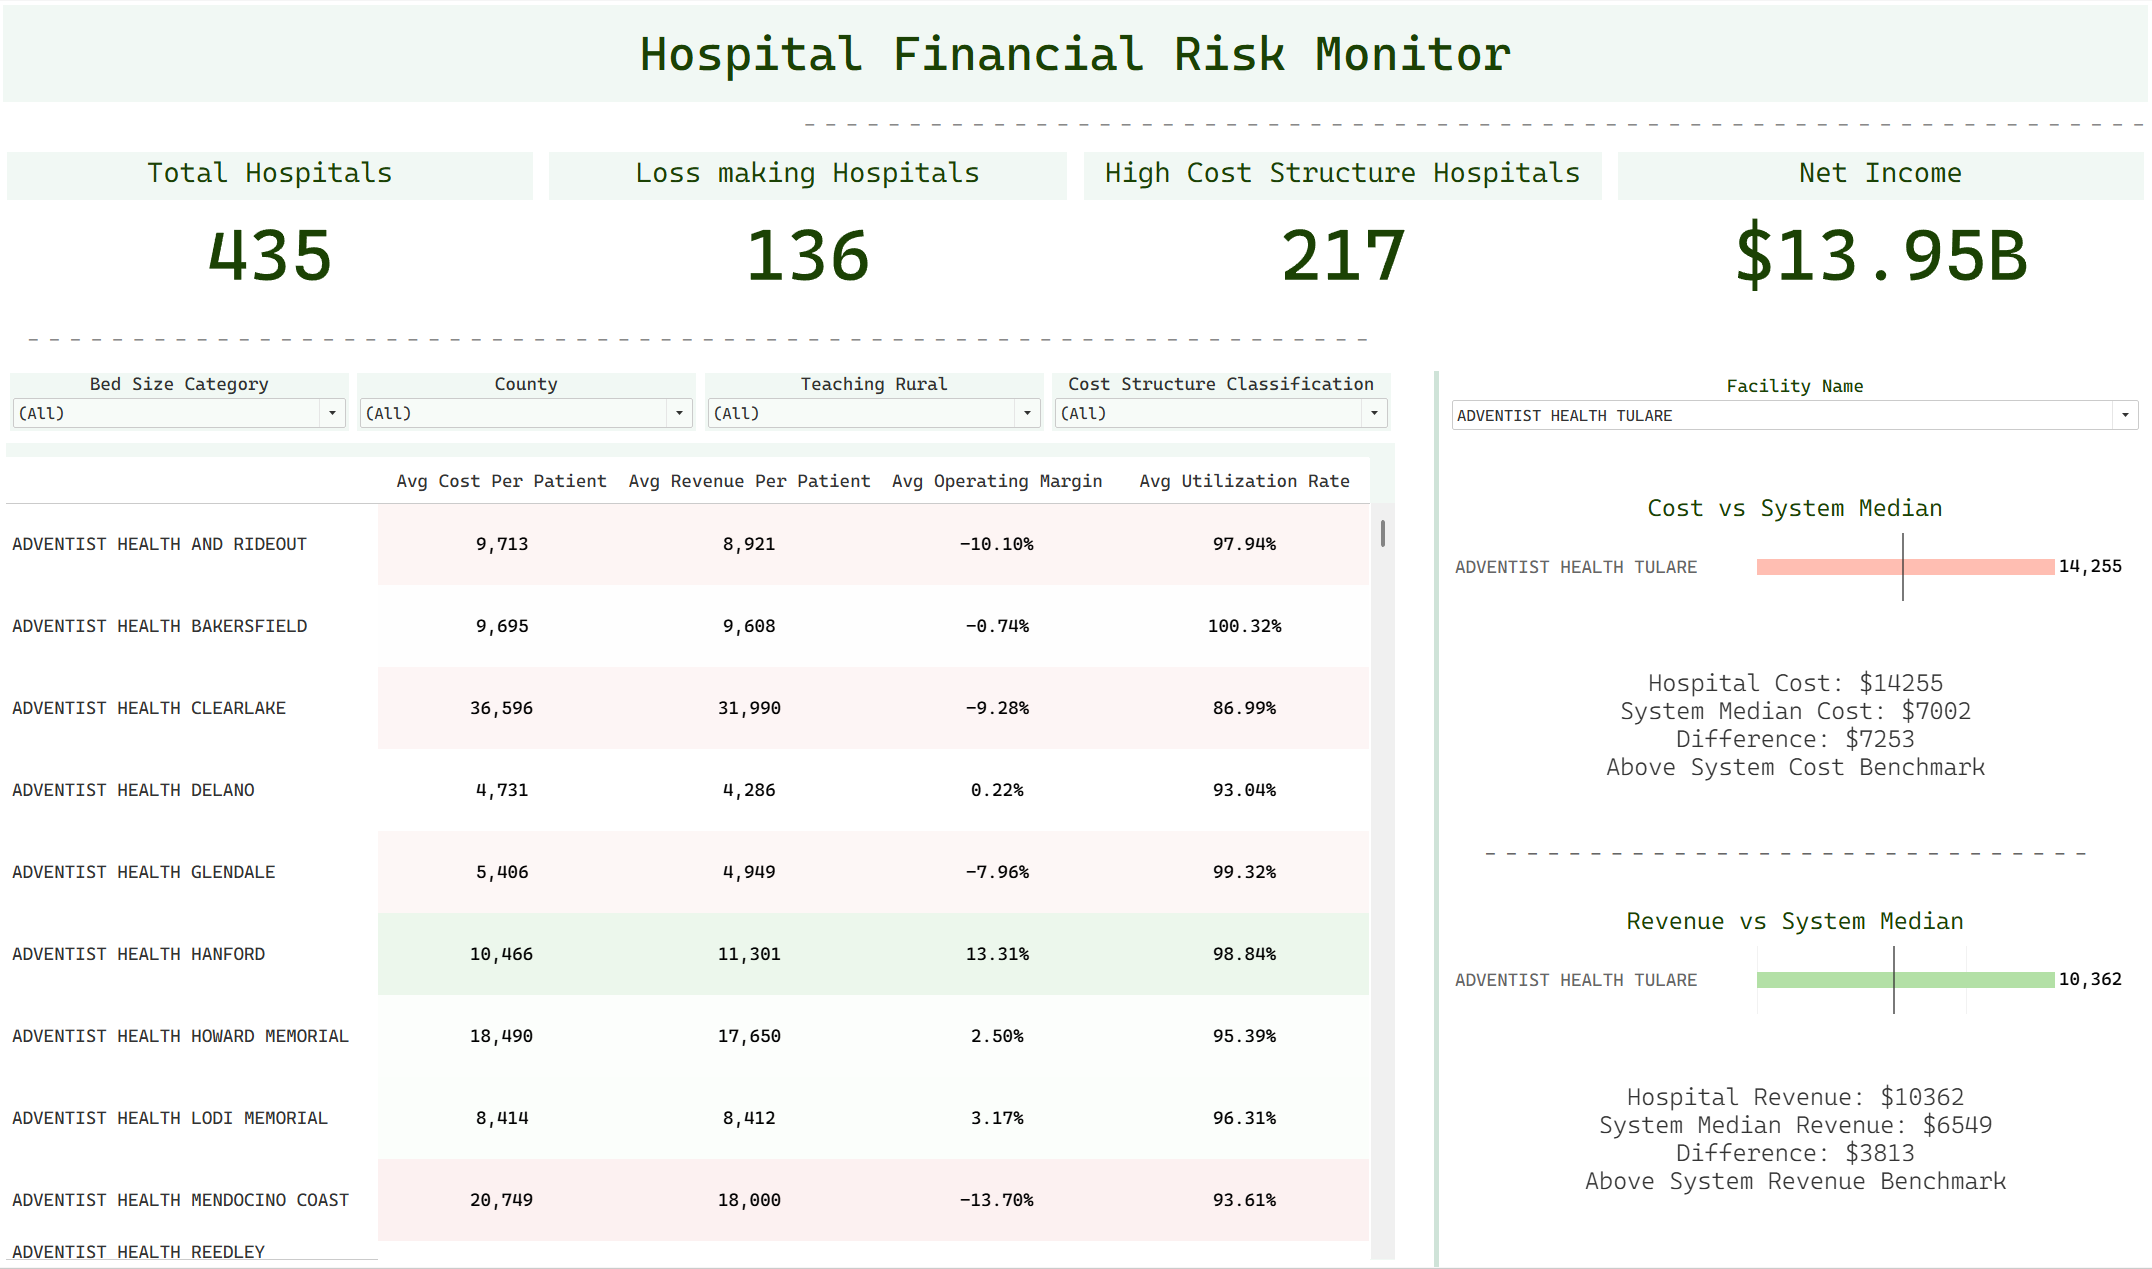

What the dashboard file says about the page in this screenshot:
{"tool":"tableau","page":{"name":"Dashboard 1","canvas":[2153,1266],"ordinal":0},"visuals":[{"type":"text","box":[0,0,2153,105]},{"type":"text","box":[0,105,2153,38]},{"type":"worksheet","title":"KPI Total Hospitals","mark":"Automatic","box":[4,147,534.3,165]},{"type":"worksheet","title":"KPI Loss Making Hospitals","mark":"Automatic","box":[546.3,147,526.2,165]},{"type":"worksheet","title":"KPI High Cost Structures Hospitals","mark":"Automatic","box":[1080.5,147,526.2,165]},{"type":"worksheet","title":"KPI Total Net Income","mark":"Automatic","box":[1614.7,147,534.3,165]},{"type":"text","box":[0,316,1403,45]},{"type":"blank","box":[1403,316,32.3,950]},{"type":"filter","title":"Hospital Risk Table","param":"[federated.0s1hex61qmjanx10mvc0p1as2600].[none:bed_size_category:nk]","box":[7,368,347.3,66]},{"type":"filter","title":"Hospital Risk Table","param":"[federated.0s1hex61qmjanx10mvc0p1as2600].[none:county:nk]","box":[354.3,368,347.3,66]},{"type":"filter","title":"Hospital Risk Table","param":"[federated.0s1hex61qmjanx10mvc0p1as2600].[none:teaching_rural:nk]","box":[701.5,368,347.3,66]},{"type":"filter","title":"Hospital Risk Table","param":"[federated.0s1hex61qmjanx10mvc0p1as2600].[none:Calculation_3048431636410370:nk]","box":[1048.8,368,347.3,66]},{"type":"filter","title":"Cost vs System Median","param":"[federated.0s1hex61qmjanx10mvc0p1as2600].[none:facility_name:nk]","box":[1440.3,370,712.7,85]},{"type":"worksheet","title":"Hospital Risk Table","mark":"Square","rows":["facility_name"],"box":[3,438,1397,825]},{"type":"blank","box":[1440.3,455,712.7,30]},{"type":"worksheet","title":"Cost vs System Median","mark":"Automatic","rows":["facility_name"],"cols":["cost_per_patient_day"],"box":[1440.3,485,712.7,119]},{"type":"worksheet","title":"Cost Summary","mark":"Text","box":[1440.3,604,712.7,153]},{"type":"text","box":[1440.3,757,712.7,63]},{"type":"worksheet","title":"Revenue vs System Median","mark":"Automatic","rows":["facility_name"],"cols":["cost_per_patient_day"],"box":[1440.3,820,712.7,129]},{"type":"worksheet","title":"Revenue Summary","mark":"Text","box":[1440.3,949,712.7,179]}]}

Visuals, with their boxes in screenshot pixels (x1, y1, x2, y2), scaled from the page's 2153x1266 canvas onto the 2152x1269 screenshot:
text: [left=0, top=0, right=2151, bottom=105]
text: [left=0, top=105, right=2151, bottom=143]
"KPI Total Hospitals" worksheet: [left=4, top=147, right=538, bottom=313]
"KPI Loss Making Hospitals" worksheet: [left=546, top=147, right=1072, bottom=313]
"KPI High Cost Structures Hospitals" worksheet: [left=1080, top=147, right=1606, bottom=313]
"KPI Total Net Income" worksheet: [left=1614, top=147, right=2148, bottom=313]
text: [left=0, top=317, right=1402, bottom=362]
blank: [left=1402, top=317, right=1435, bottom=1268]
"Hospital Risk Table" filter: [left=7, top=369, right=354, bottom=435]
"Hospital Risk Table" filter: [left=354, top=369, right=701, bottom=435]
"Hospital Risk Table" filter: [left=701, top=369, right=1048, bottom=435]
"Hospital Risk Table" filter: [left=1048, top=369, right=1395, bottom=435]
"Cost vs System Median" filter: [left=1440, top=371, right=2151, bottom=456]
"Hospital Risk Table" worksheet (Square marks): [left=3, top=439, right=1399, bottom=1266]
blank: [left=1440, top=456, right=2151, bottom=486]
"Cost vs System Median" worksheet: [left=1440, top=486, right=2151, bottom=605]
"Cost Summary" worksheet (Text marks): [left=1440, top=605, right=2151, bottom=759]
text: [left=1440, top=759, right=2151, bottom=822]
"Revenue vs System Median" worksheet: [left=1440, top=822, right=2151, bottom=951]
"Revenue Summary" worksheet (Text marks): [left=1440, top=951, right=2151, bottom=1131]
